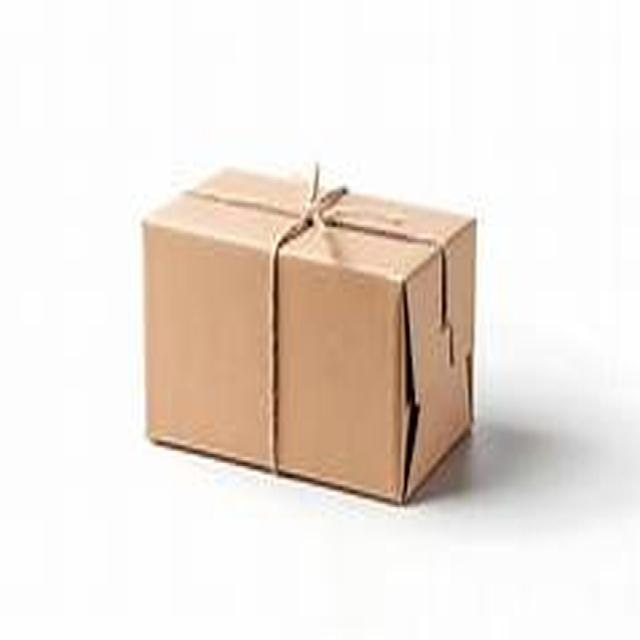box: (96, 109, 546, 553)
